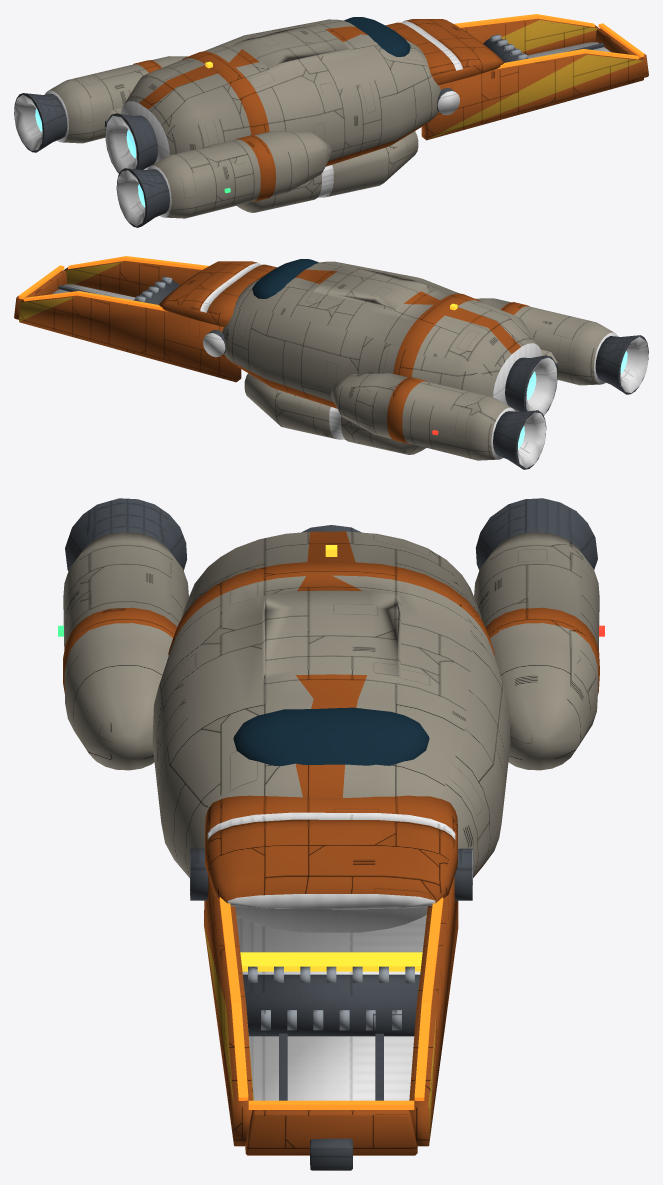
File: pelican_production_v1_lod2.glb
3 renders of one model, top to bottom at view 1: azimuth 30°, elevation 25°; view 2: azimuth 150°, elevation 25°; view 3: azimuth 270°, elevation 25°, orthographic. The views are drawn at different scales.
Parts seen in each view (by area): view 1: LOD0_MOTION_HULL_CORE_Hull, LOD0_MOTION_HULL_CORE_Armor, LOD0_MOTION_HULL_CORE_MechanicalDark, LOD0_MOTION_HULL_CORE_Livery, LOD0_MOTION_HULL_CORE_Mechanical, LOD0_MOTION_HULL_CORE_Warning, LOD0_MOTION_HULL_CORE_Lights_Cyan_bill, LOD0_MOTION_HULL_CORE_CANOPY, LOD0_MOTION_HULL_CORE_HOOK_DRIVE_CORE, LOD0_MOTION_HULL_CORE_BrushedMetal; view 2: LOD0_MOTION_HULL_CORE_Hull, LOD0_MOTION_HULL_CORE_Armor, LOD0_MOTION_HULL_CORE_MechanicalDark, LOD0_MOTION_HULL_CORE_Livery, LOD0_MOTION_HULL_CORE_Mechanical, LOD0_MOTION_HULL_CORE_Lights_Cyan_bill, LOD0_MOTION_HULL_CORE_CANOPY, LOD0_MOTION_HULL_CORE_Warning, LOD0_MOTION_HULL_CORE_HOOK_DRIVE_CORE, LOD0_MOTION_HULL_CORE_BrushedMetal; view 3: LOD0_MOTION_HULL_CORE_Hull, LOD0_MOTION_HULL_CORE_Armor, LOD0_MOTION_HULL_CORE_MechanicalDark, LOD0_MOTION_HULL_CORE_Mechanical, LOD0_MOTION_HULL_CORE_Livery, LOD0_MOTION_HULL_CORE_CANOPY, LOD0_MOTION_HULL_CORE_Lights_Cyan_bill, LOD0_MOTION_HULL_CORE_Beacon_Amber, LOD0_MOTION_HULL_CORE_BrushedMetal, LOD0_MOTION_HULL_CORE_Warning.
Boxes of the visible parts, x1=… form: LOD0_MOTION_HULL_CORE_Hull: x1=49, y1=19, x2=440, y2=218; LOD0_MOTION_HULL_CORE_Armor: x1=326, y1=18, x2=648, y2=166; LOD0_MOTION_HULL_CORE_MechanicalDark: x1=14, y1=21, x2=610, y2=226; LOD0_MOTION_HULL_CORE_Livery: x1=133, y1=26, x2=416, y2=201; LOD0_MOTION_HULL_CORE_Mechanical: x1=14, y1=38, x2=604, y2=227; LOD0_MOTION_HULL_CORE_Warning: x1=429, y1=20, x2=642, y2=139; LOD0_MOTION_HULL_CORE_Lights_Cyan_bill: x1=454, y1=14, x2=644, y2=69; LOD0_MOTION_HULL_CORE_CANOPY: x1=344, y1=17, x2=410, y2=56; LOD0_MOTION_HULL_CORE_HOOK_DRIVE_CORE: x1=35, y1=109, x2=144, y2=207; LOD0_MOTION_HULL_CORE_BrushedMetal: x1=490, y1=34, x2=529, y2=60; LOD0_MOTION_HULL_CORE_Hull: x1=222, y1=261, x2=614, y2=460; LOD0_MOTION_HULL_CORE_Armor: x1=14, y1=260, x2=337, y2=408; LOD0_MOTION_HULL_CORE_MechanicalDark: x1=52, y1=263, x2=648, y2=468; LOD0_MOTION_HULL_CORE_Livery: x1=251, y1=269, x2=529, y2=443; LOD0_MOTION_HULL_CORE_Mechanical: x1=58, y1=280, x2=648, y2=469; LOD0_MOTION_HULL_CORE_Lights_Cyan_bill: x1=18, y1=256, x2=208, y2=311; LOD0_MOTION_HULL_CORE_CANOPY: x1=252, y1=259, x2=318, y2=298; LOD0_MOTION_HULL_CORE_Warning: x1=19, y1=262, x2=122, y2=321; LOD0_MOTION_HULL_CORE_HOOK_DRIVE_CORE: x1=518, y1=351, x2=627, y2=449; LOD0_MOTION_HULL_CORE_BrushedMetal: x1=133, y1=276, x2=172, y2=302; LOD0_MOTION_HULL_CORE_Hull: x1=63, y1=531, x2=599, y2=917; LOD0_MOTION_HULL_CORE_Armor: x1=204, y1=795, x2=491, y2=1155; LOD0_MOTION_HULL_CORE_MechanicalDark: x1=190, y1=812, x2=472, y2=1100; LOD0_MOTION_HULL_CORE_Mechanical: x1=65, y1=498, x2=597, y2=1170; LOD0_MOTION_HULL_CORE_Livery: x1=63, y1=531, x2=599, y2=797; LOD0_MOTION_HULL_CORE_CANOPY: x1=233, y1=707, x2=429, y2=765; LOD0_MOTION_HULL_CORE_Lights_Cyan_bill: x1=219, y1=897, x2=443, y2=1109; LOD0_MOTION_HULL_CORE_Beacon_Amber: x1=240, y1=545, x2=422, y2=971; LOD0_MOTION_HULL_CORE_BrushedMetal: x1=248, y1=966, x2=414, y2=1030; LOD0_MOTION_HULL_CORE_Warning: x1=204, y1=928, x2=436, y2=1144.
Size of what is drawn, in the model's own units: 14.71 by 3.81 by 6.26.
13 materials, 7 textured.
